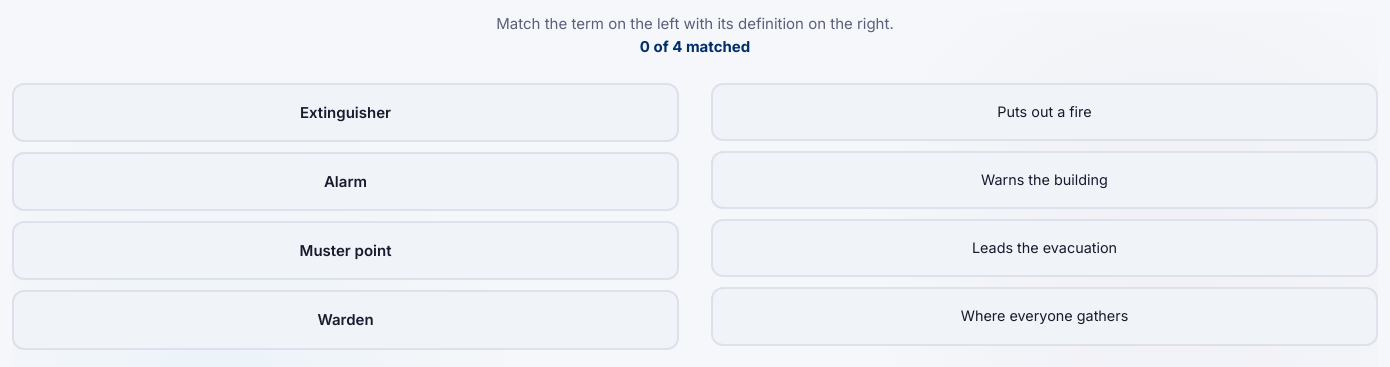
Scenario: matching a pair › takes a matched pair out of play
Click the button "Alarm" at (346, 181), box [12,152,679,211]
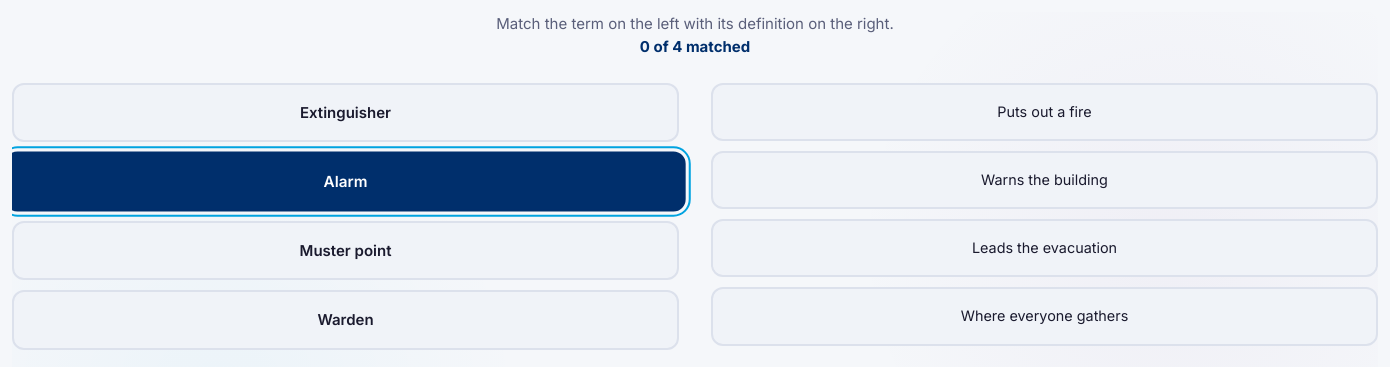
Click the button "Warns the building" at (1044, 180), box [711,151,1378,209]
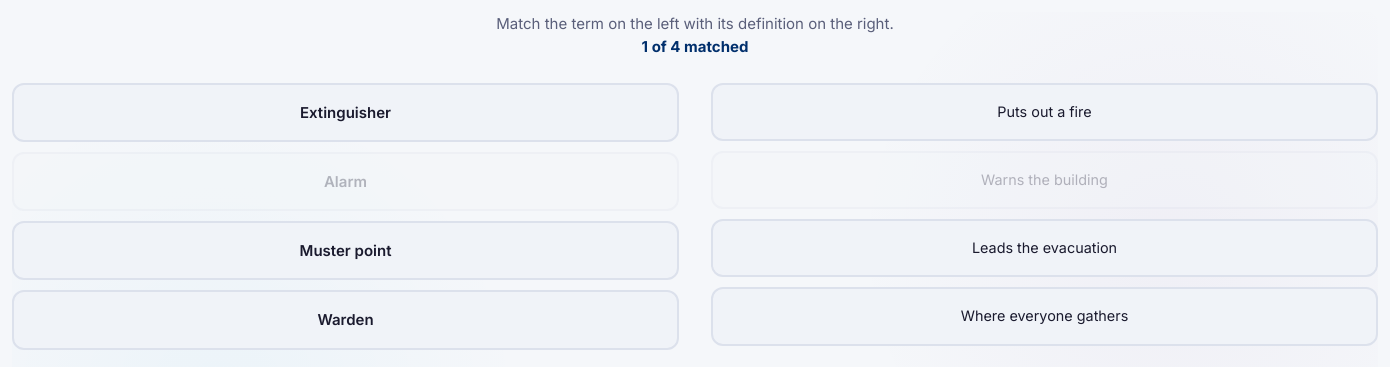
Now the button "Alarm" is disabled, box [12,152,679,211]
Now the button "Warns the building" is disabled, box [711,151,1378,209]
